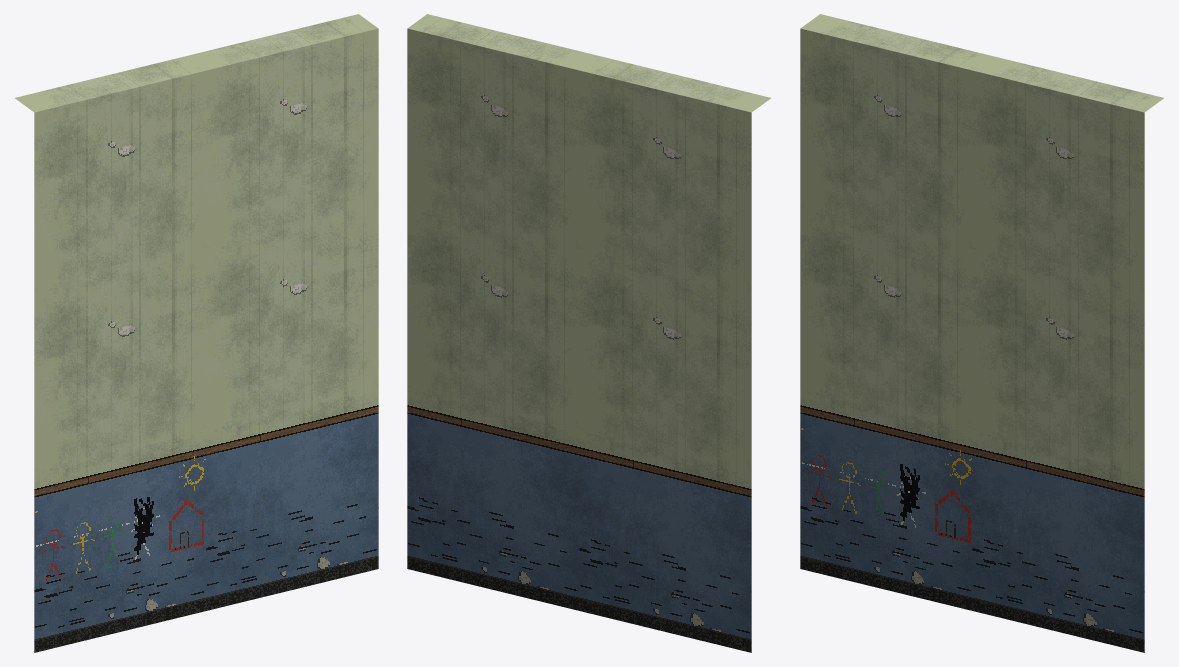
Rendered from wall_class_crayon.glb.
3 views of the same model, side by side, from view 1: azimuth 30°, elevation 25°; view 2: azimuth 150°, elevation 25°; view 3: azimuth 330°, elevation 25° (orthographic).
Parts seen in each view (by area): view 1: wall_class_crayon; view 2: wall_class_crayon; view 3: wall_class_crayon.
Boxes of the visible parts, <box> form: wall_class_crayon: <box>15,14,378,652</box>; wall_class_crayon: <box>407,14,770,652</box>; wall_class_crayon: <box>800,14,1163,652</box>.
Size of the model in its own units: 2 by 3 by 0.2.
